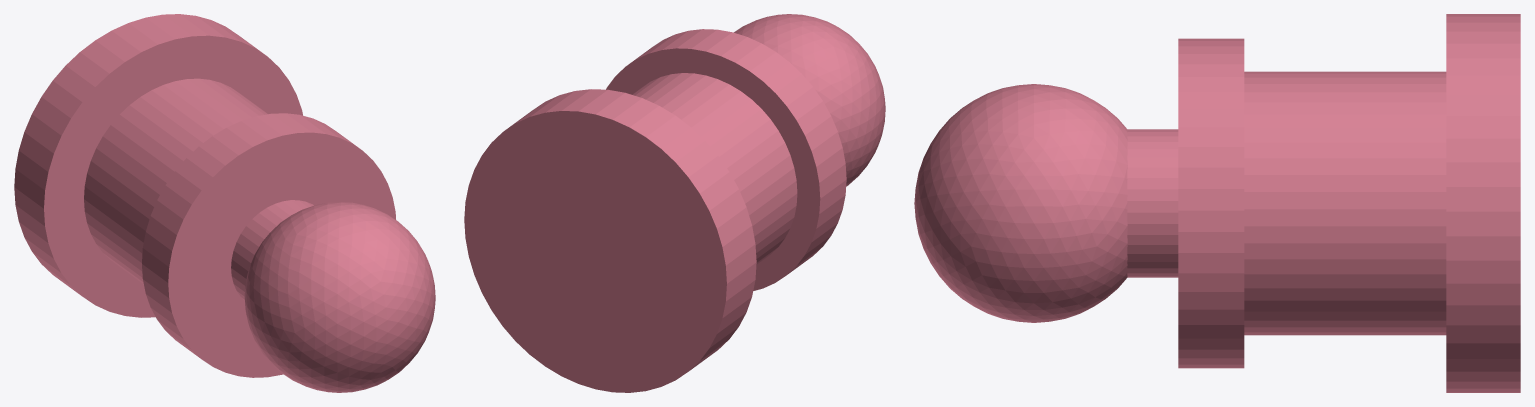
Rendered from pawn-red.glb.
The picture shows the model from 3 angles, left to right: view 1: azimuth 30°, elevation 25°; view 2: azimuth 150°, elevation 25°; view 3: azimuth 270°, elevation 25°; orthographic projection. The views are drawn at different scales.
Parts seen in each view (by area): view 1: shoulder, base, head, body, neck; view 2: base, shoulder, body, head; view 3: body, head, base, shoulder, neck.
Part boxes in pixels (bbox=[...]): shoulder: bbox=[142, 113, 395, 377]; base: bbox=[14, 14, 302, 317]; head: bbox=[244, 202, 435, 392]; body: bbox=[84, 78, 267, 284]; neck: bbox=[231, 200, 313, 300]; base: bbox=[464, 89, 756, 392]; shoulder: bbox=[606, 29, 846, 290]; body: bbox=[632, 73, 797, 264]; head: bbox=[734, 14, 885, 186]; body: bbox=[1244, 71, 1446, 335]; head: bbox=[914, 84, 1127, 322]; base: bbox=[1446, 14, 1520, 392]; shoulder: bbox=[1178, 38, 1244, 368]; neck: bbox=[1127, 129, 1178, 277].
Size of the model in its own units: 0.92 by 0.92 by 1.47.
